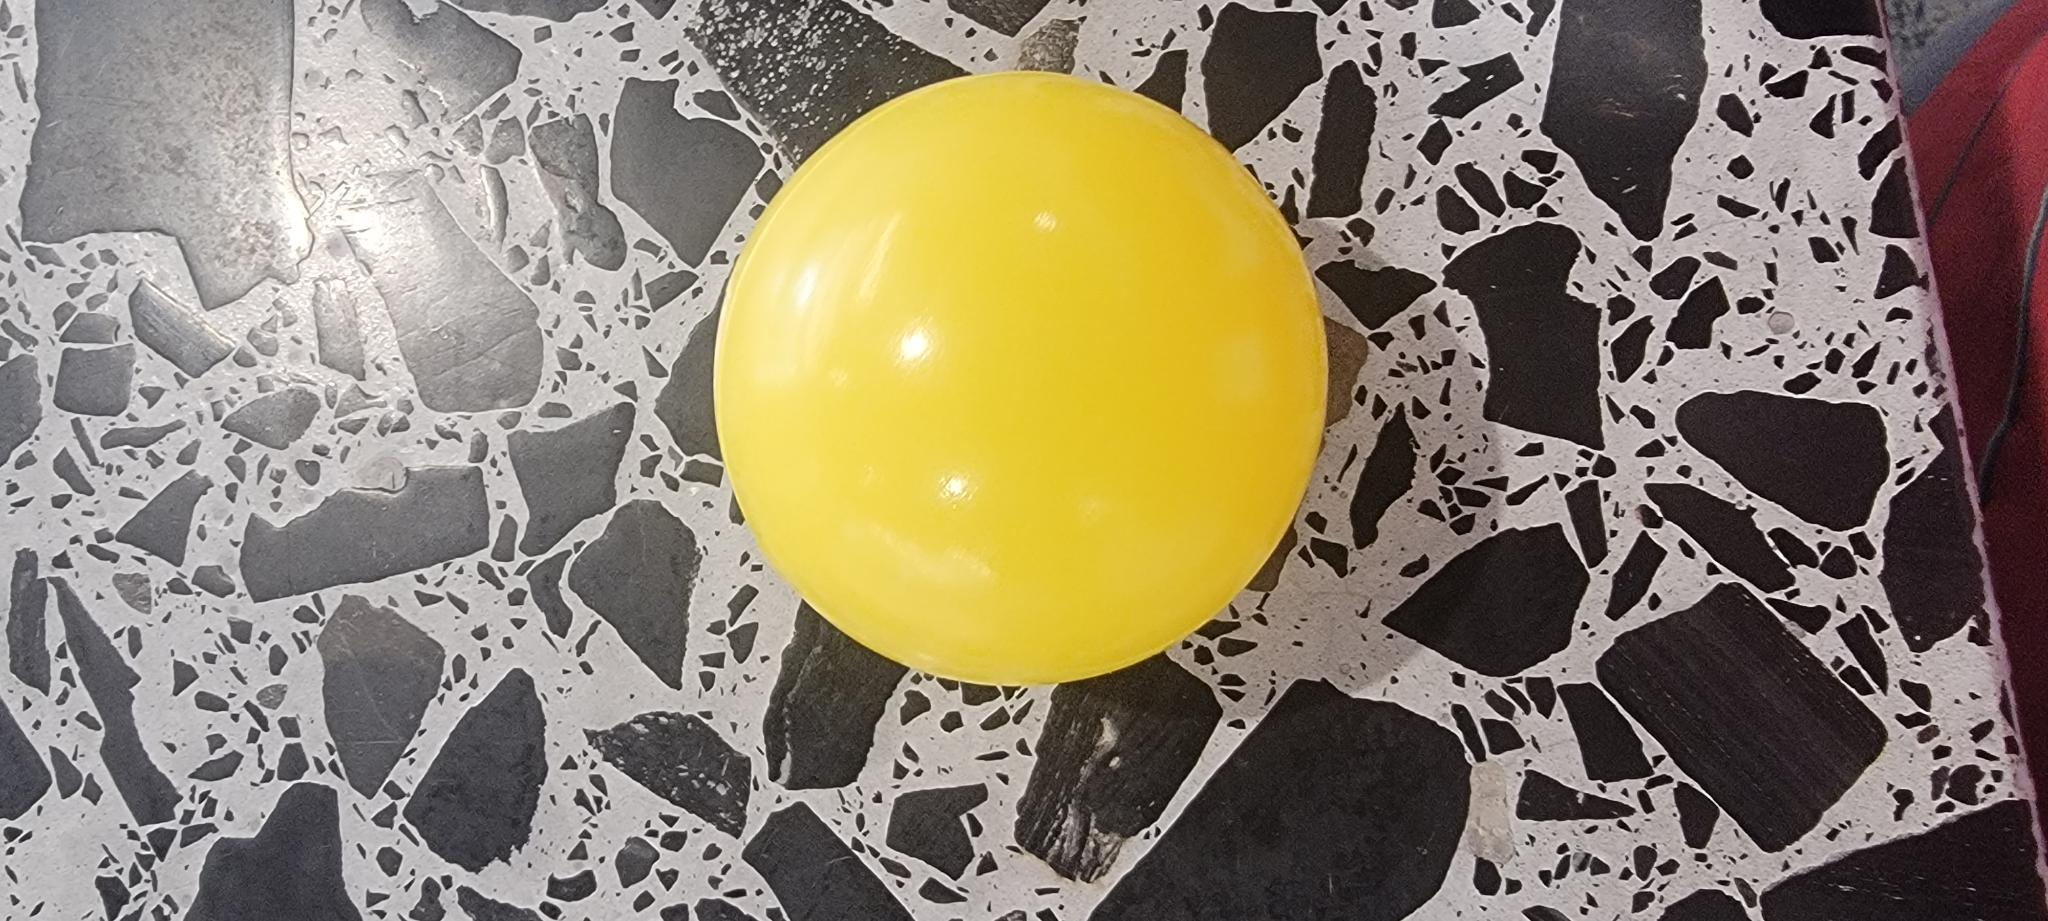Yellow-Ball: (232, 709, 852, 921)
